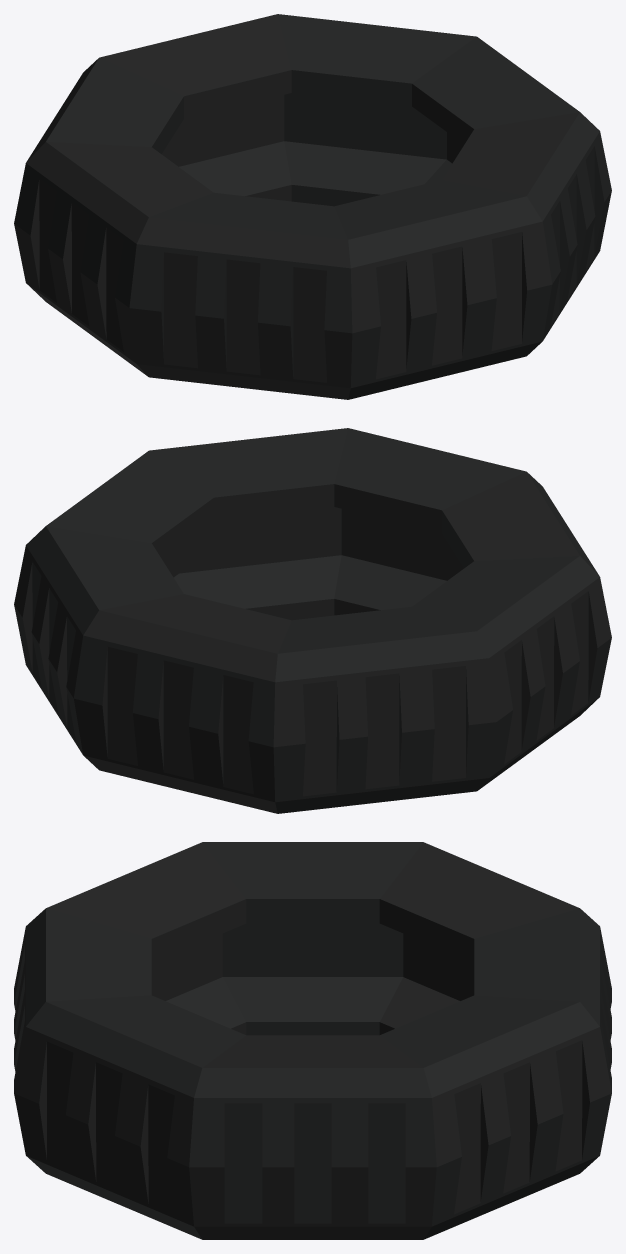
The model's file is Tyre.fbx.
3 renders of one model, top to bottom at view 1: azimuth 30°, elevation 25°; view 2: azimuth 150°, elevation 25°; view 3: azimuth 270°, elevation 25°, orthographic. The views are drawn at different scales.
Visible parts, largest first — view 1: Tyre; view 2: Tyre; view 3: Tyre.
Boxes of the visible parts, x1,y1,x2,y2 form: Tyre: [14, 14, 611, 399]; Tyre: [14, 428, 611, 813]; Tyre: [14, 842, 611, 1239].
Size of the model in its own units: 94.6 by 30 by 94.6.
